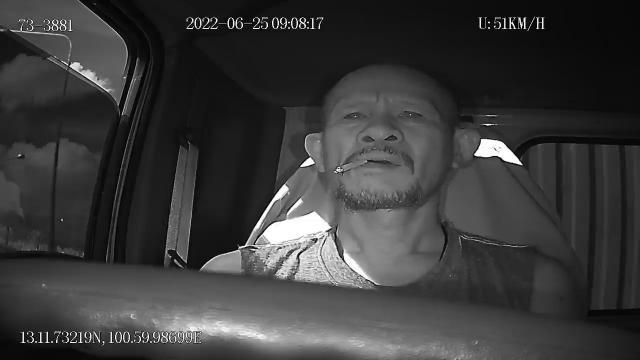SafeDriving: (390, 100, 430, 127), (334, 102, 374, 127)
Smoking: (337, 158, 368, 174)
